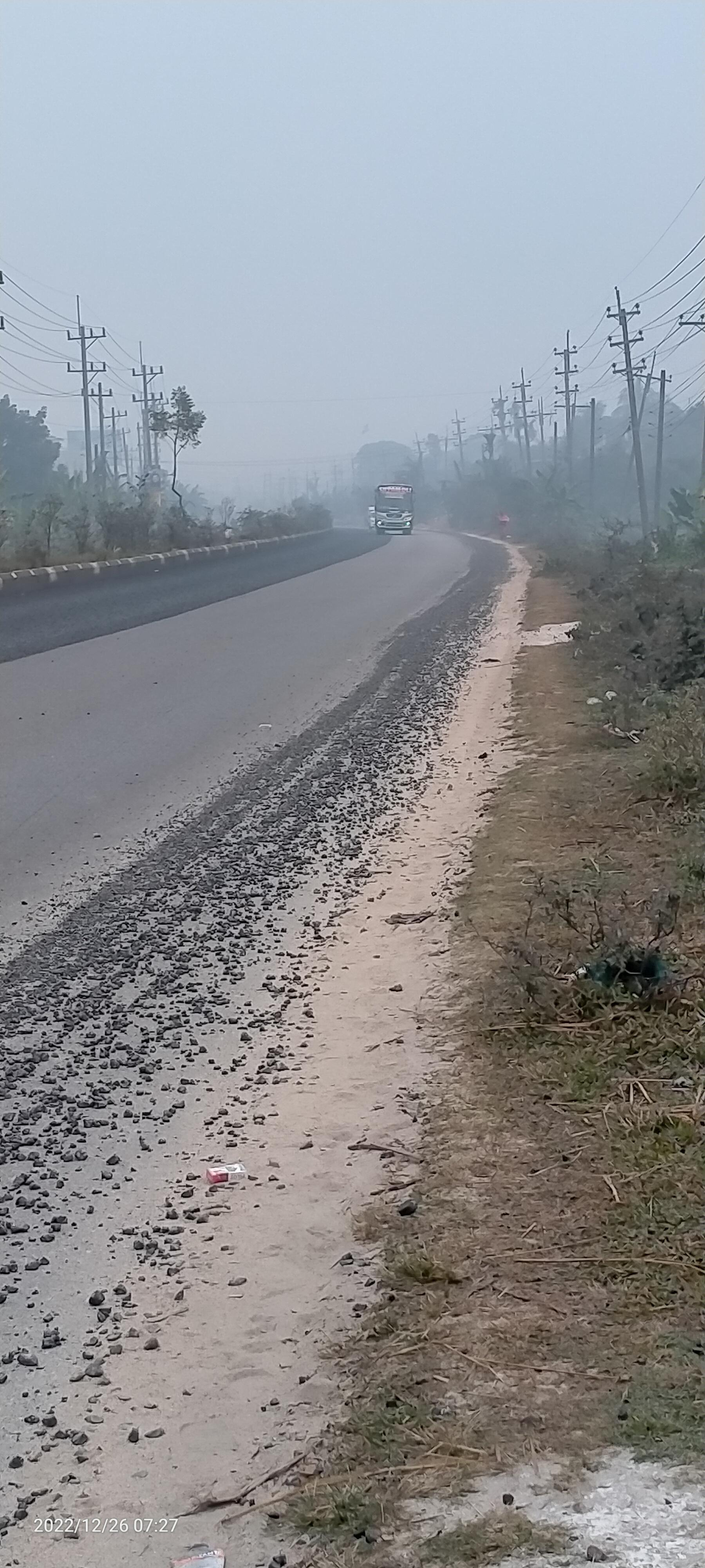Bus: (367, 472, 421, 552)
